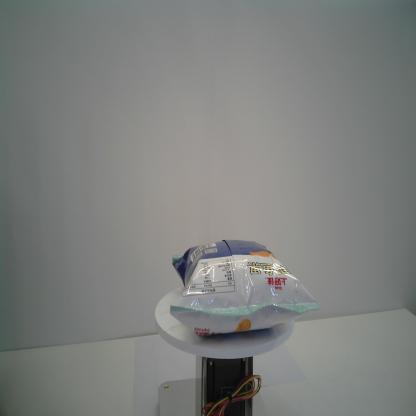Puffed Food: (168, 238, 321, 339)
